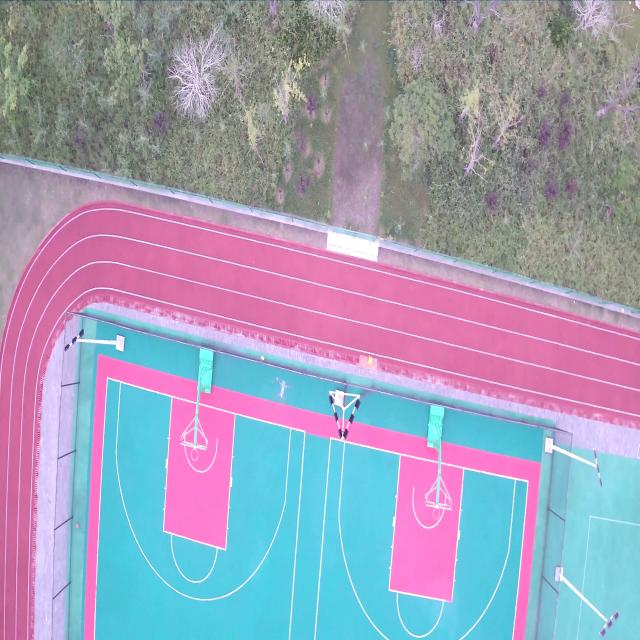UAV: (274, 376, 292, 404)
